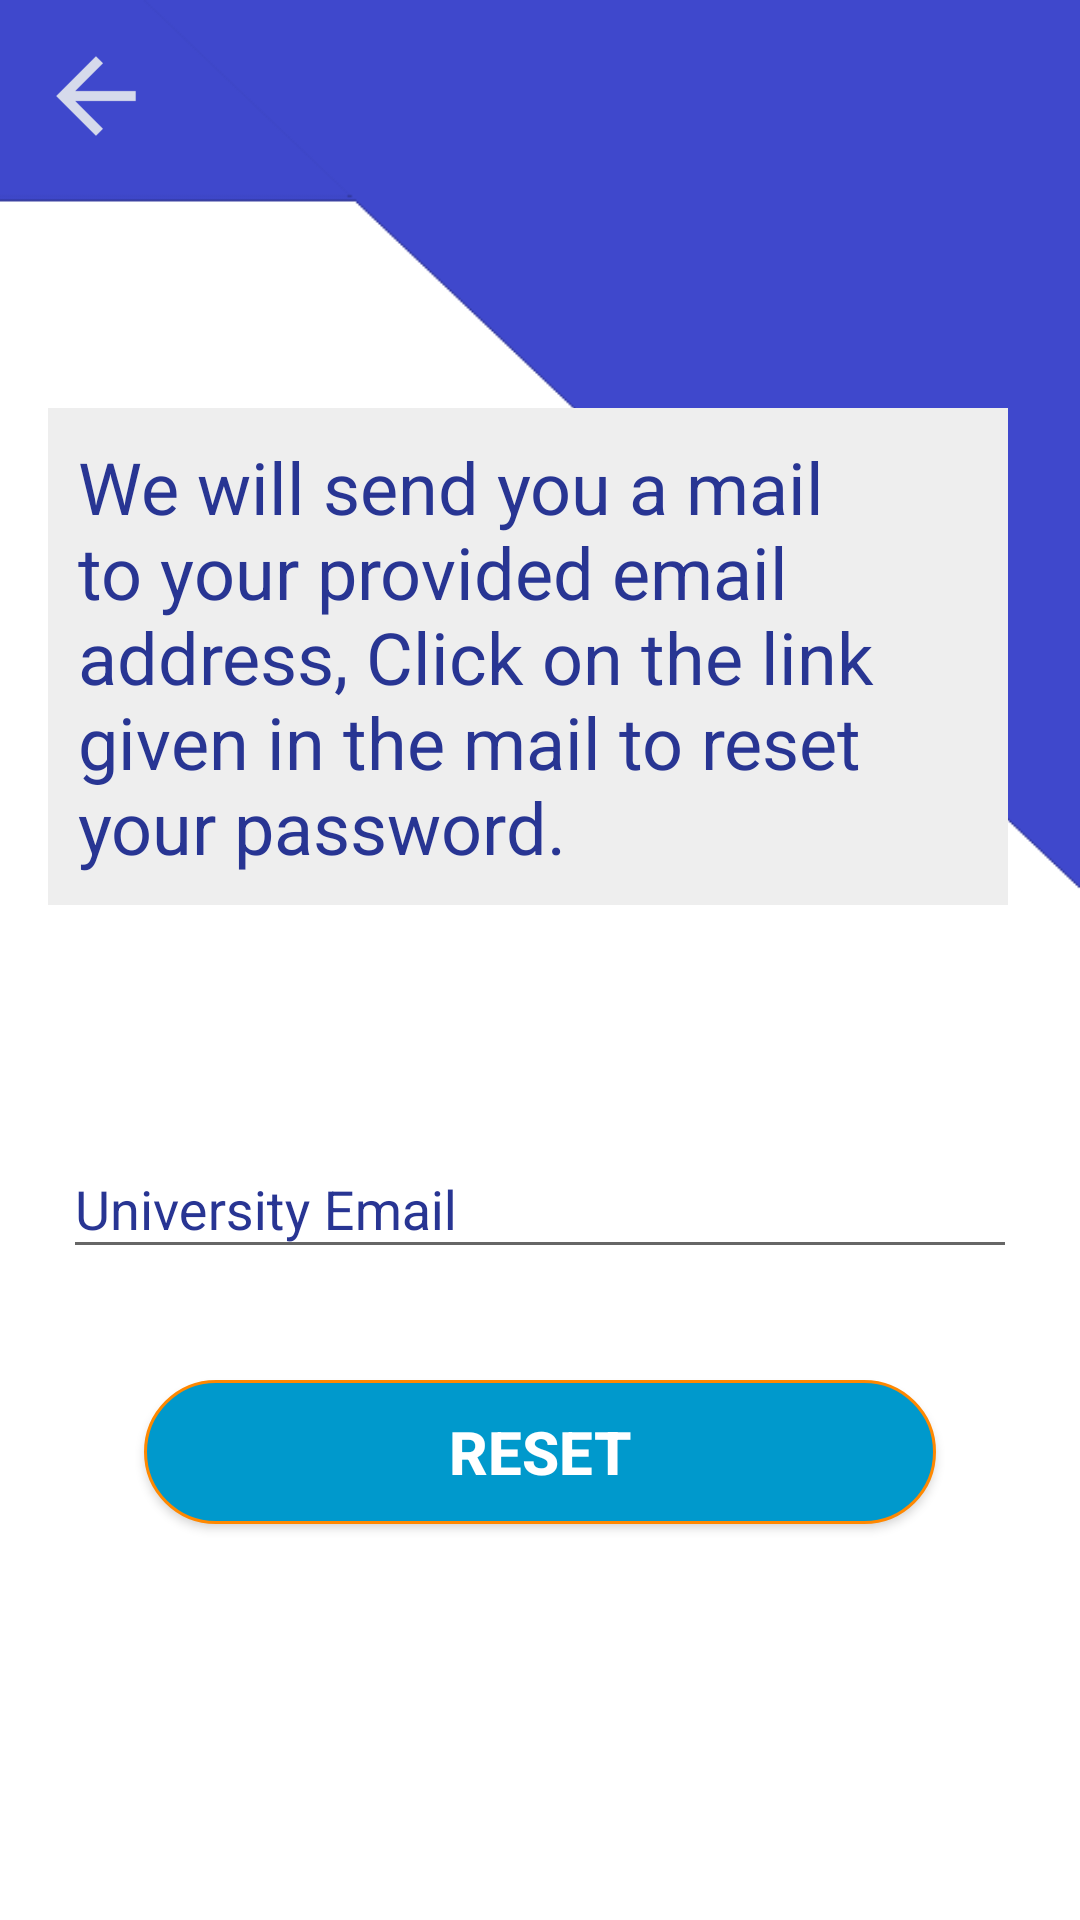

Named icons in this screenshot (1080x1920) and their centers, point (x, y):
back arrow: point (96, 96)
